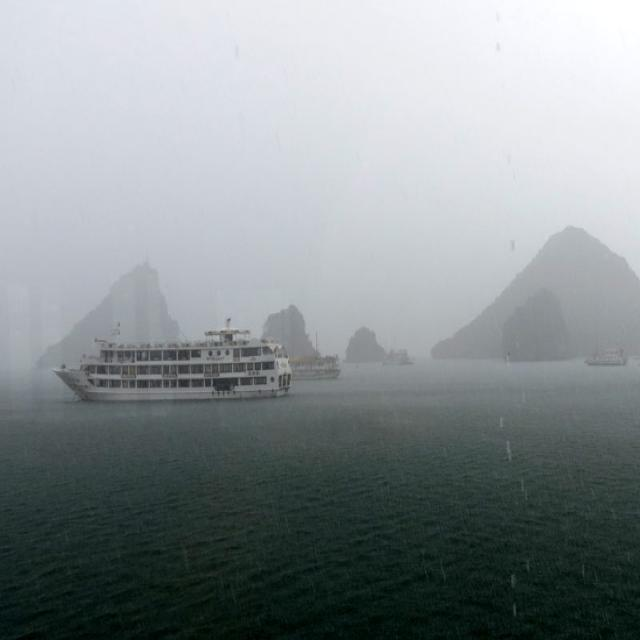passenger ship: (63, 330, 307, 400)
